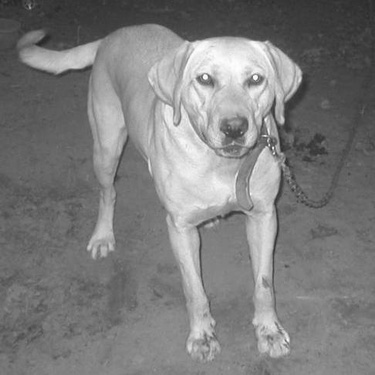dog: (11, 21, 309, 362)
